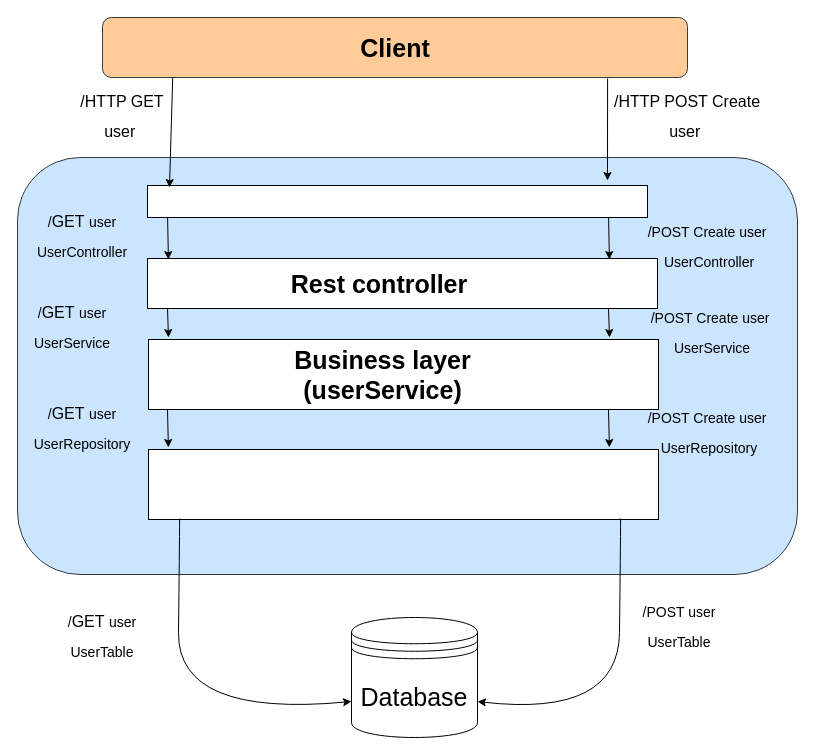
Image size: 815x755. Some labels were removed from this diagram. Here are the shapes that lost their labels. From the top down, the centre of each, then its label:
At (x=397, y=201): "Dispatcher".
At (x=403, y=484): "Data access layer".
